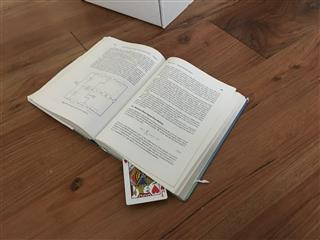JackOfHearts: (121, 155, 168, 205)
